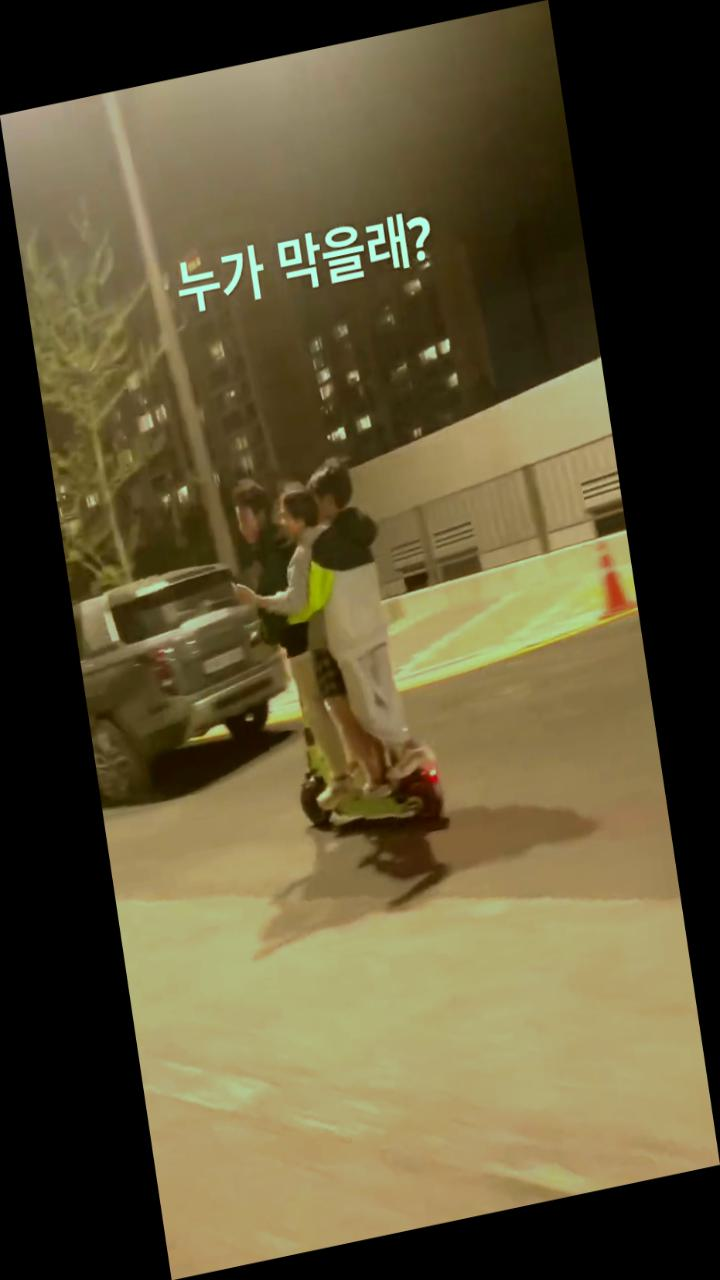multiple: (216, 441, 460, 869)
